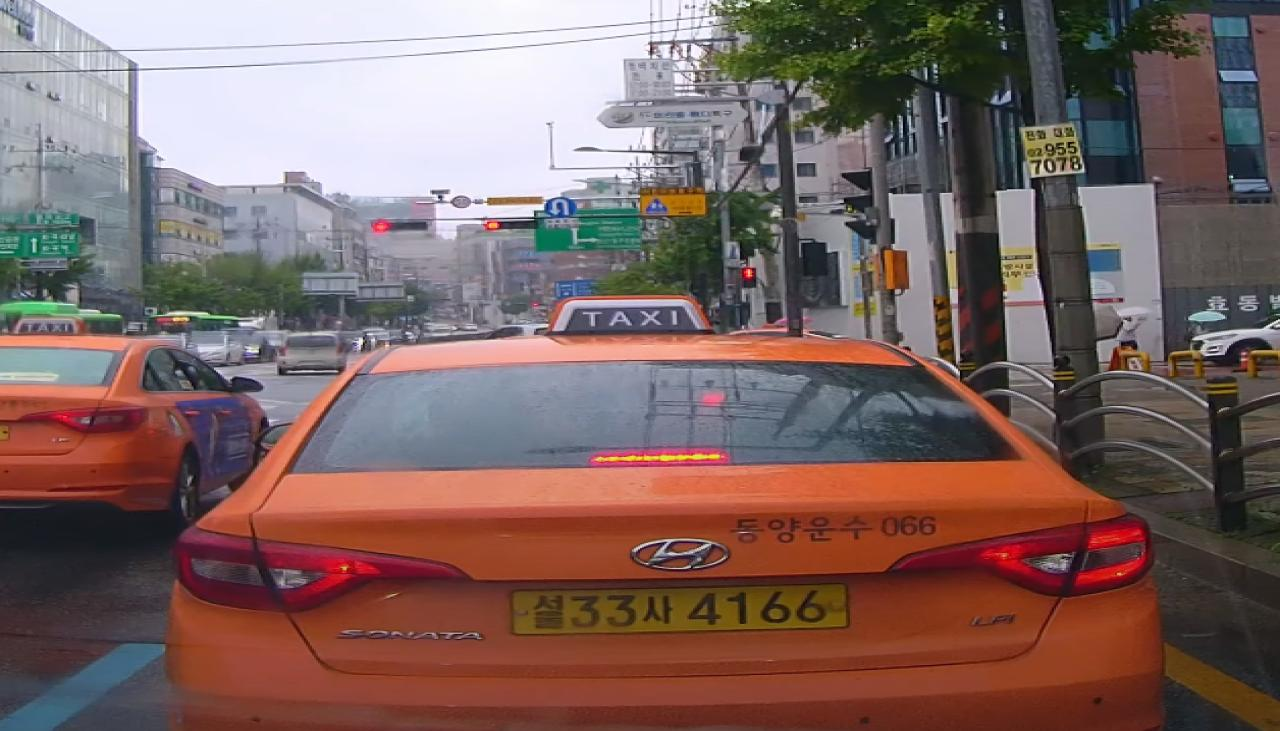Red Light: (372, 221, 390, 232), (485, 220, 500, 230)
